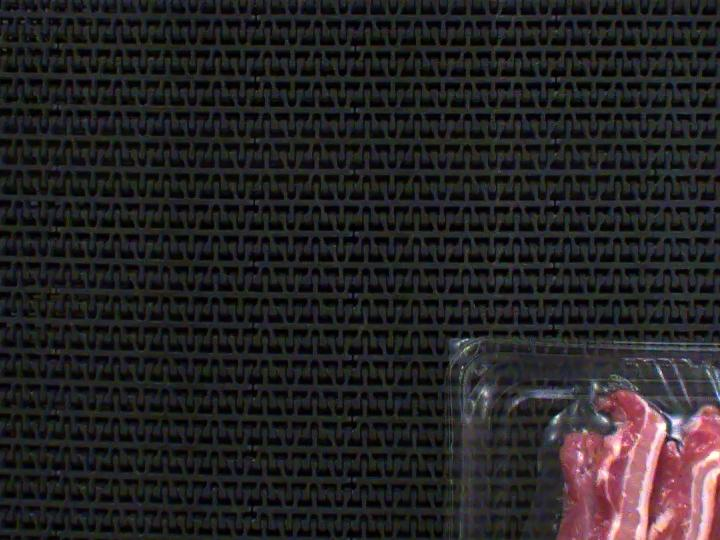unsealed: (493, 352, 720, 540)
